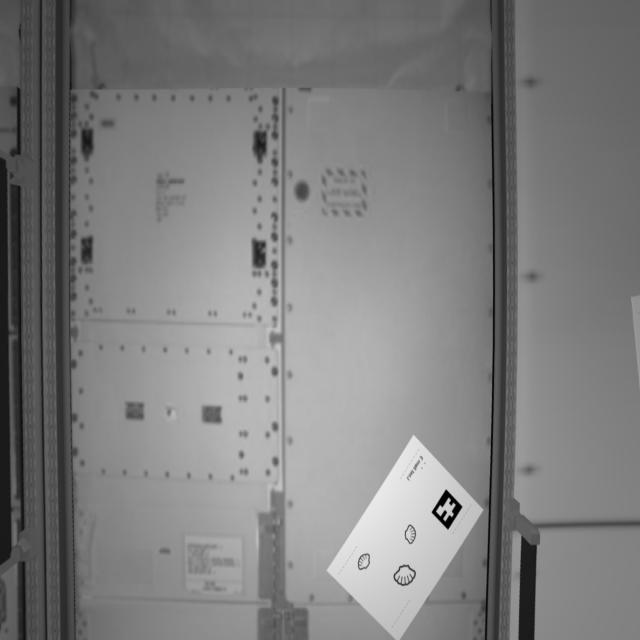shell: (393, 563, 420, 586), (357, 553, 374, 574), (404, 524, 419, 546)
